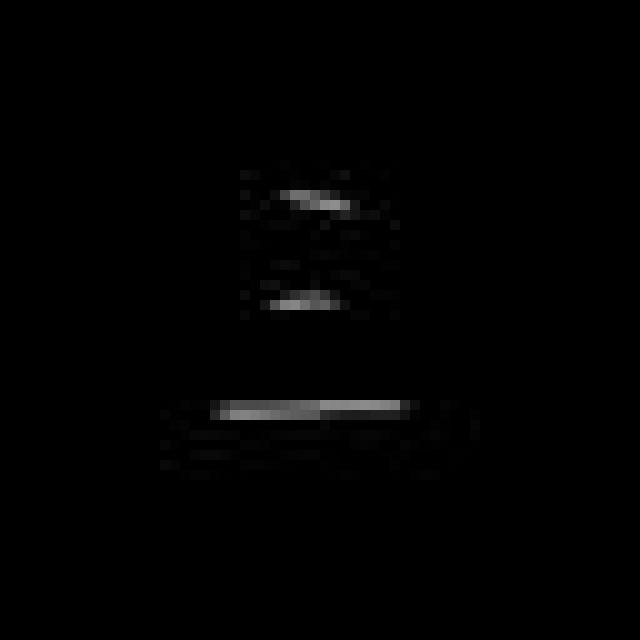3 -three-: (190, 175, 427, 445)
